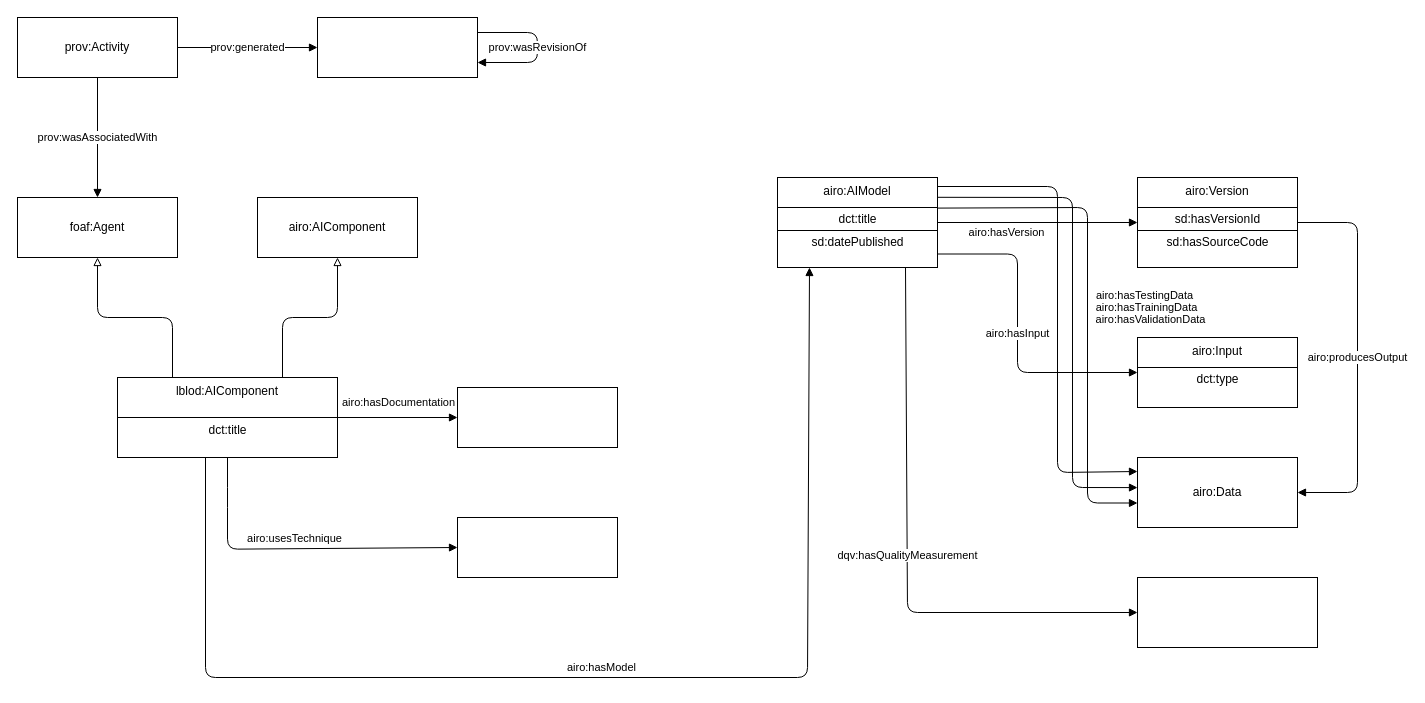
Image size: 1425x703. Some labels were removed from this diagram. Each missing label, with the centre of its shape:
"airo:AITechnique" goes at (x=537, y=547).
"airo:Documentation" goes at (x=537, y=417).
"dqv:QualityMeasurement" goes at (x=1227, y=612).
"oa:Annotation" goes at (x=397, y=47).
